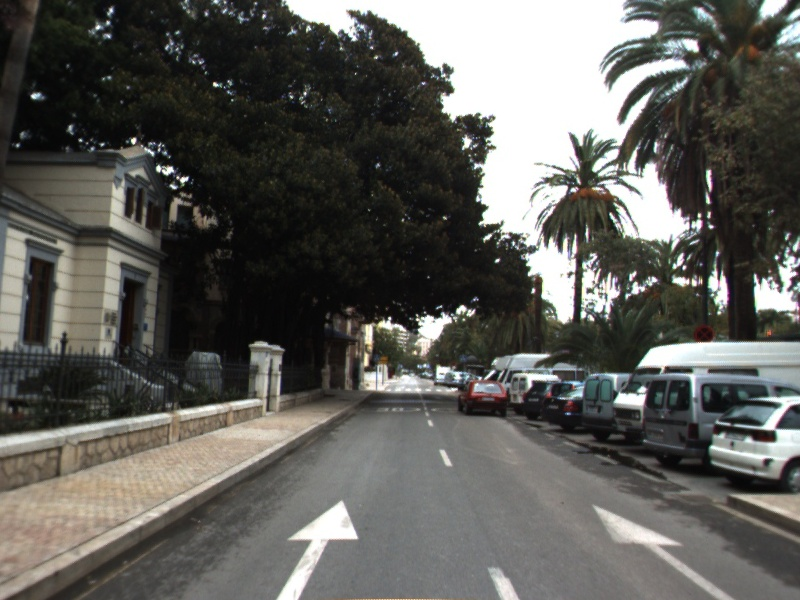STRAIGHT: (590, 502, 741, 600), (273, 498, 361, 600)
